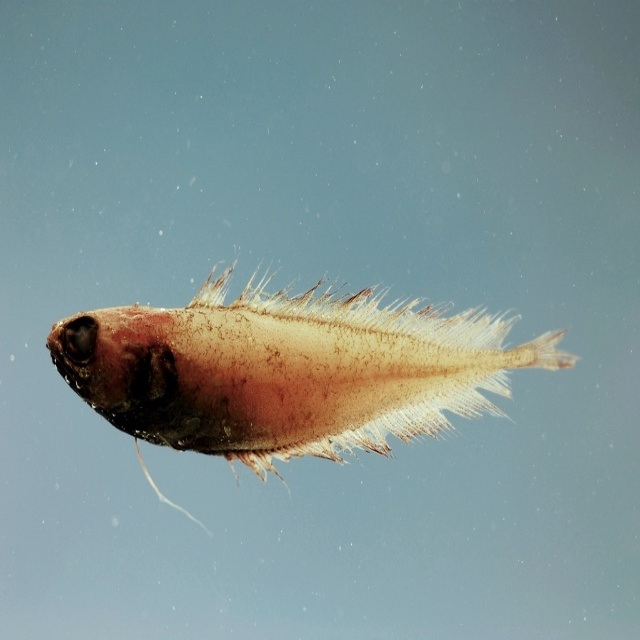Fish: (36, 256, 568, 491)
